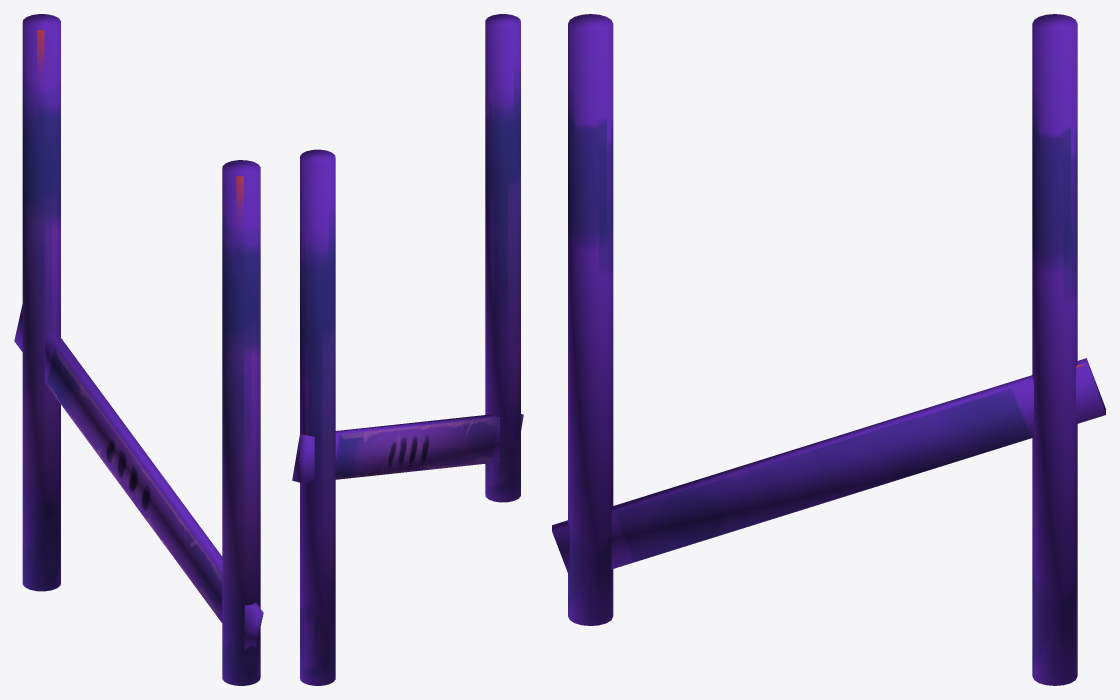
Rendered from Frame2.fbx.
The picture shows the model from 3 angles, left to right: view 1: azimuth 30°, elevation 25°; view 2: azimuth 150°, elevation 25°; view 3: azimuth 270°, elevation 25°; orthographic projection. The views are drawn at different scales.
Parts seen in each view (by area): view 1: Frame2; view 2: Frame2; view 3: Frame2.
Part boxes in pixels (x1=…): Frame2: x1=14, y1=14, x2=263, y2=685; Frame2: x1=292, y1=14, x2=523, y2=685; Frame2: x1=552, y1=14, x2=1105, y2=685.
Size of the model in its own units: 75.42 by 926 by 1205.
